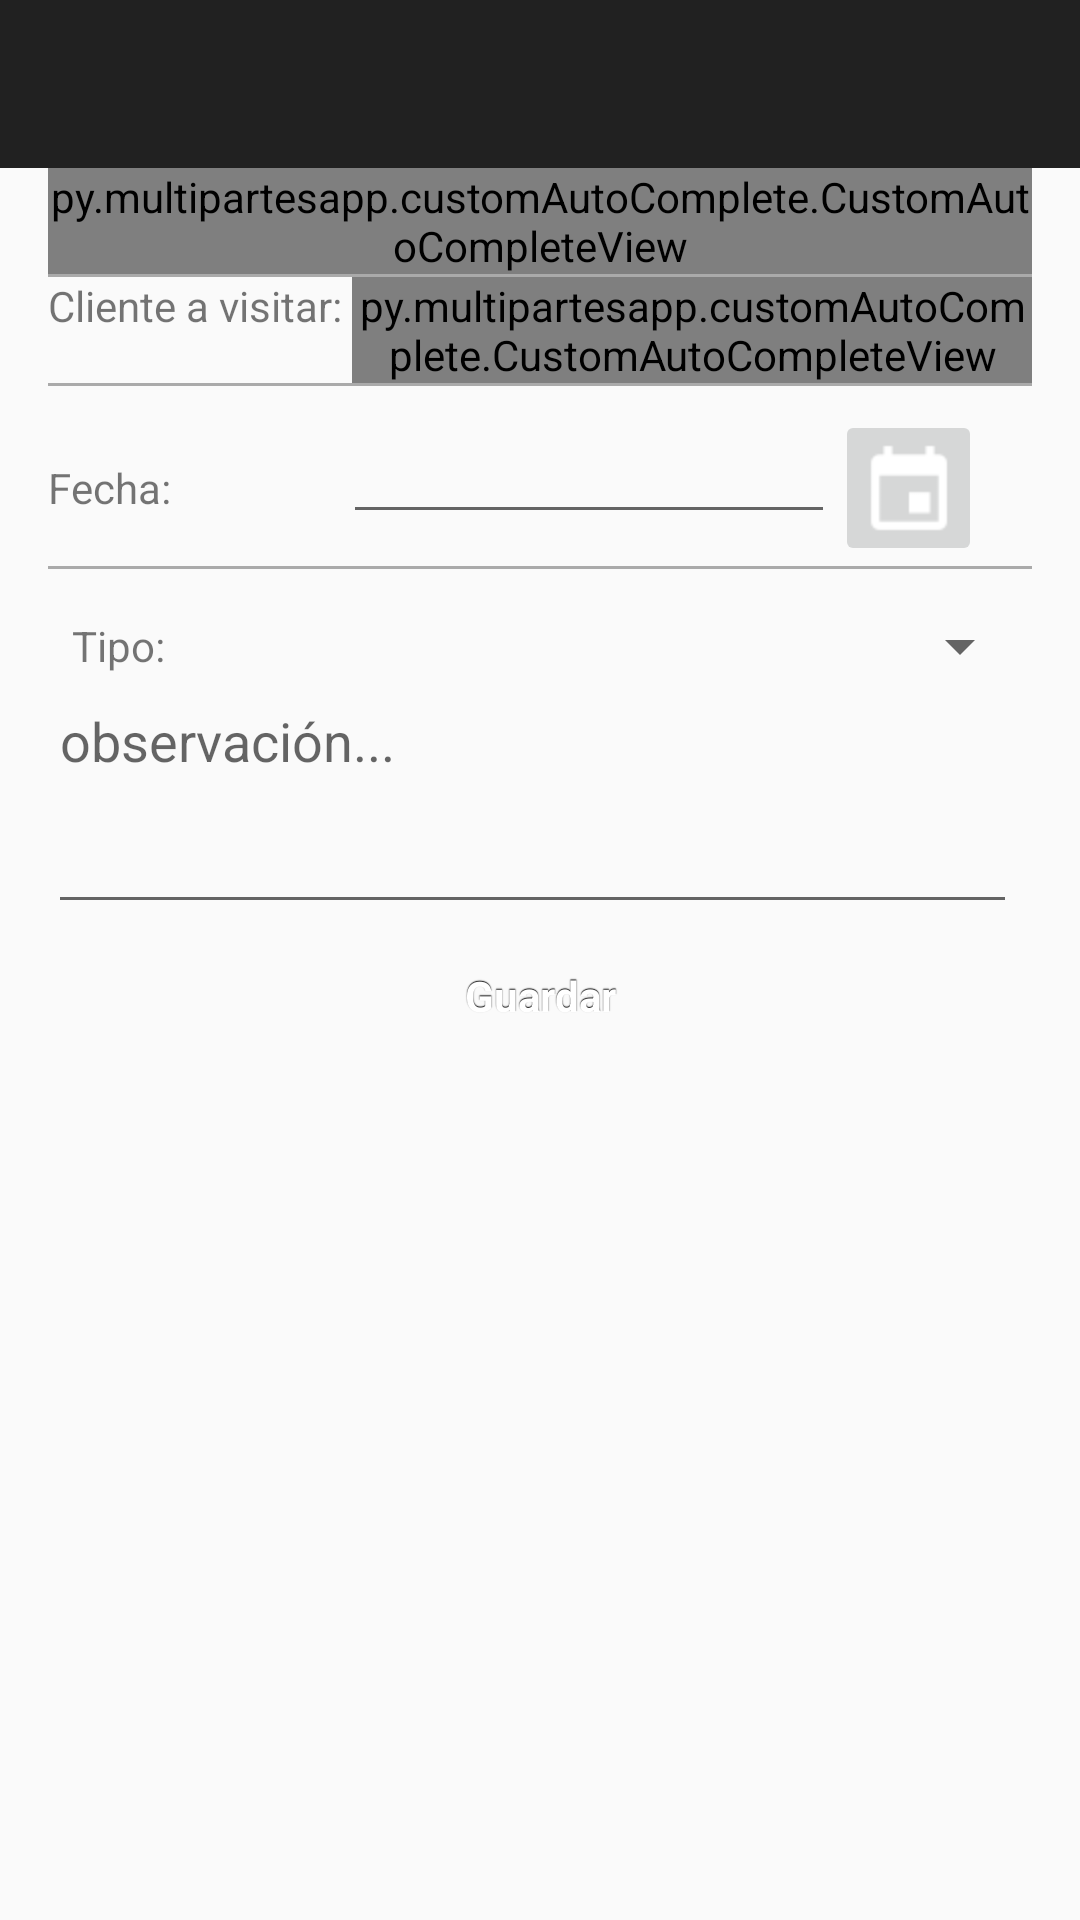

Point at icon controls on the screen. Image size 1080px×1920px, points as [x,y].
calendar: [908,488]
